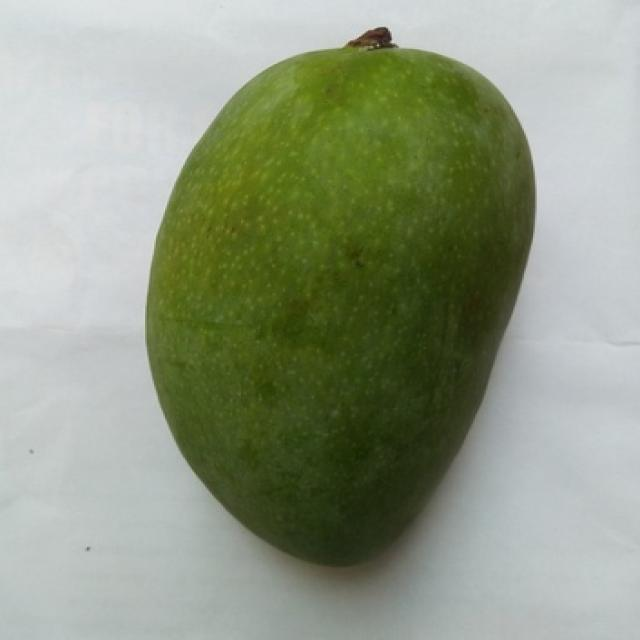Mango: (147, 43, 533, 564)
